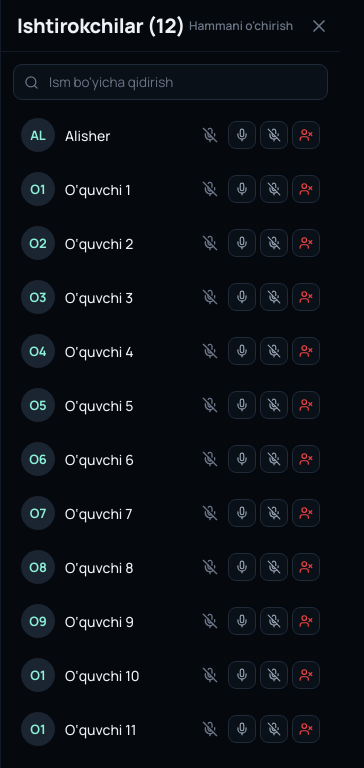
ParticipantsPanel › hech kim topilmasa bo‘sh holat ko‘rsatiladi
In the search field named "Ishtirokchilarni qidirish": (182, 82) 47,72 -> 317,92, type "zzz"
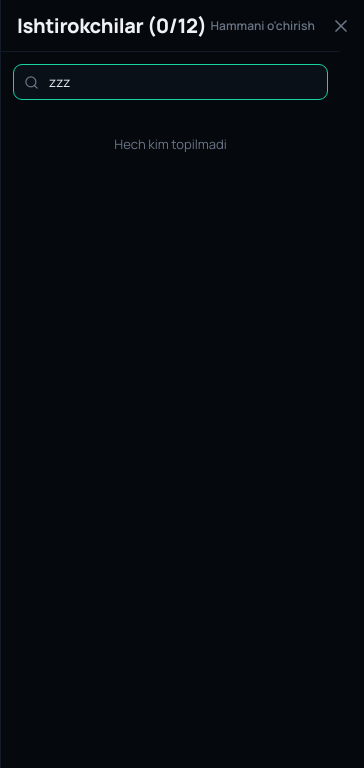
Check: the text "Hech kim topilmadi" is shown, box 114,135 -> 227,153
Check: the heading "Ishtirokchilar (0/12)" is shown, box 17,12 -> 207,39
